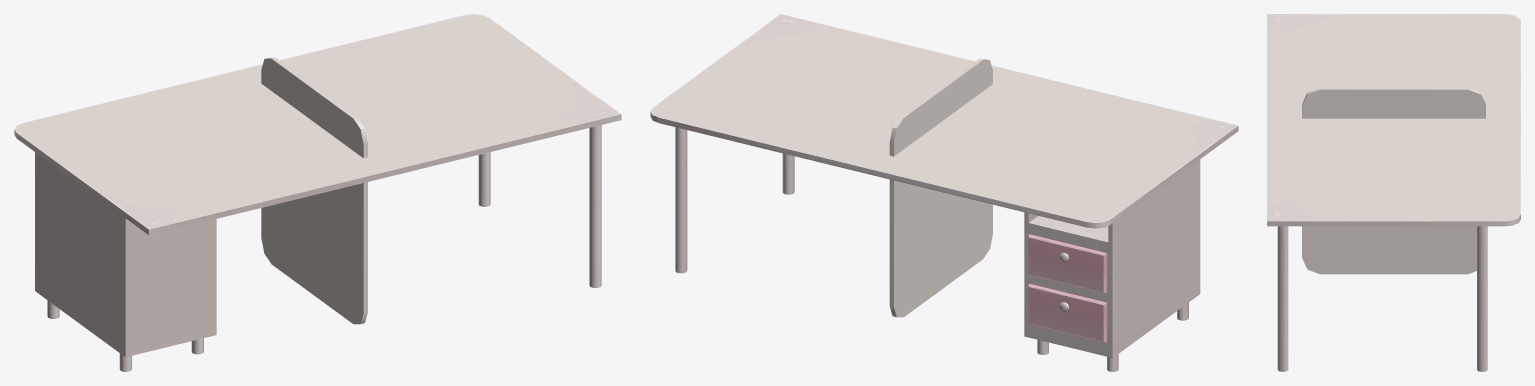
File: zhuozi.fbx
3 renders of one model, left to right at view 1: azimuth 30°, elevation 25°; view 2: azimuth 150°, elevation 25°; view 3: azimuth 270°, elevation 25°, orthographic. The views are drawn at different scales.
Visible parts, largest first — view 1: zhuoz, dangb; view 2: zhuoz, dangb; view 3: zhuoz, dangb.
Part boxes in pixels (x1=…): zhuoz: x1=14, y1=14, x2=621, y2=371; dangb: x1=261, y1=57, x2=367, y2=324; zhuoz: x1=650, y1=14, x2=1238, y2=371; dangb: x1=889, y1=59, x2=992, y2=317; zhuoz: x1=1267, y1=14, x2=1520, y2=371; dangb: x1=1302, y1=87, x2=1485, y2=274.
Bounding box in the file's own units: 197 × 81.86 × 102.
1 material, 1 textured.
